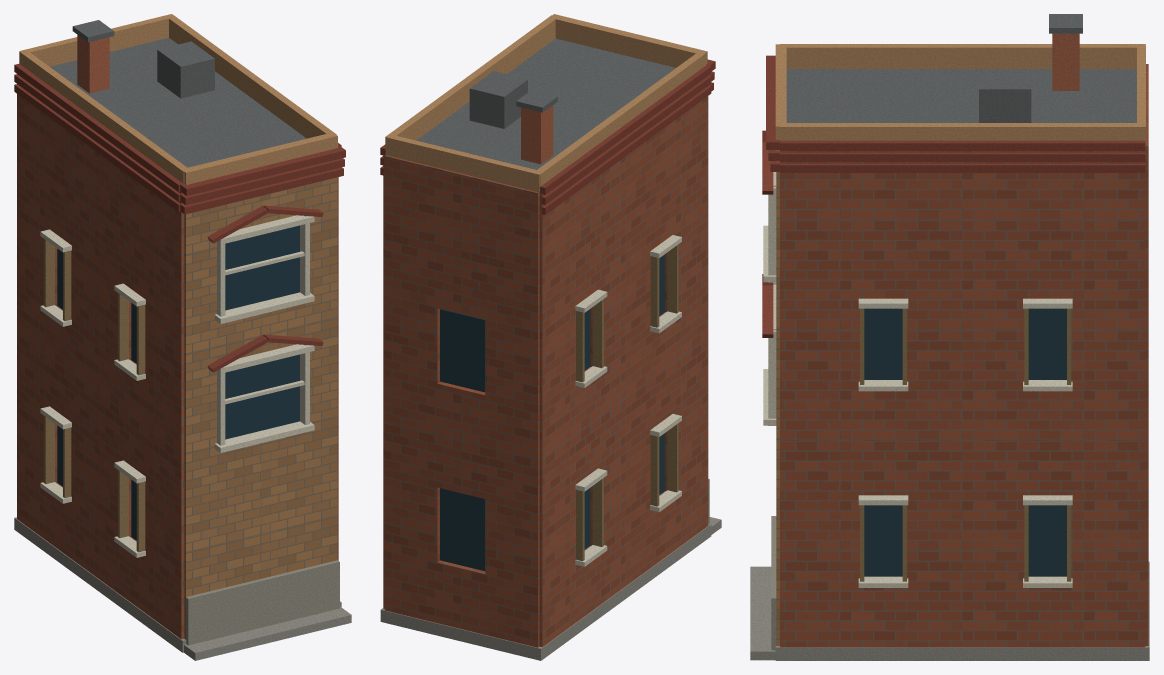
The model's file is VICT19_lod2.glb.
3 renders of one model, left to right at view 1: azimuth 30°, elevation 25°; view 2: azimuth 150°, elevation 25°; view 3: azimuth 270°, elevation 25°, orthographic. The views are drawn at different scales.
Parts seen in each view (by area): view 1: VICT19_LOD2; view 2: VICT19_LOD2; view 3: VICT19_LOD2.
Part boxes in pixels (x1,y1,x2,y2): VICT19_LOD2: (14,14,351,660); VICT19_LOD2: (380,14,721,660); VICT19_LOD2: (750,14,1149,660).
Size of the model in its own units: 3.71 by 10.45 by 6.57.
12 materials, 10 textured.
